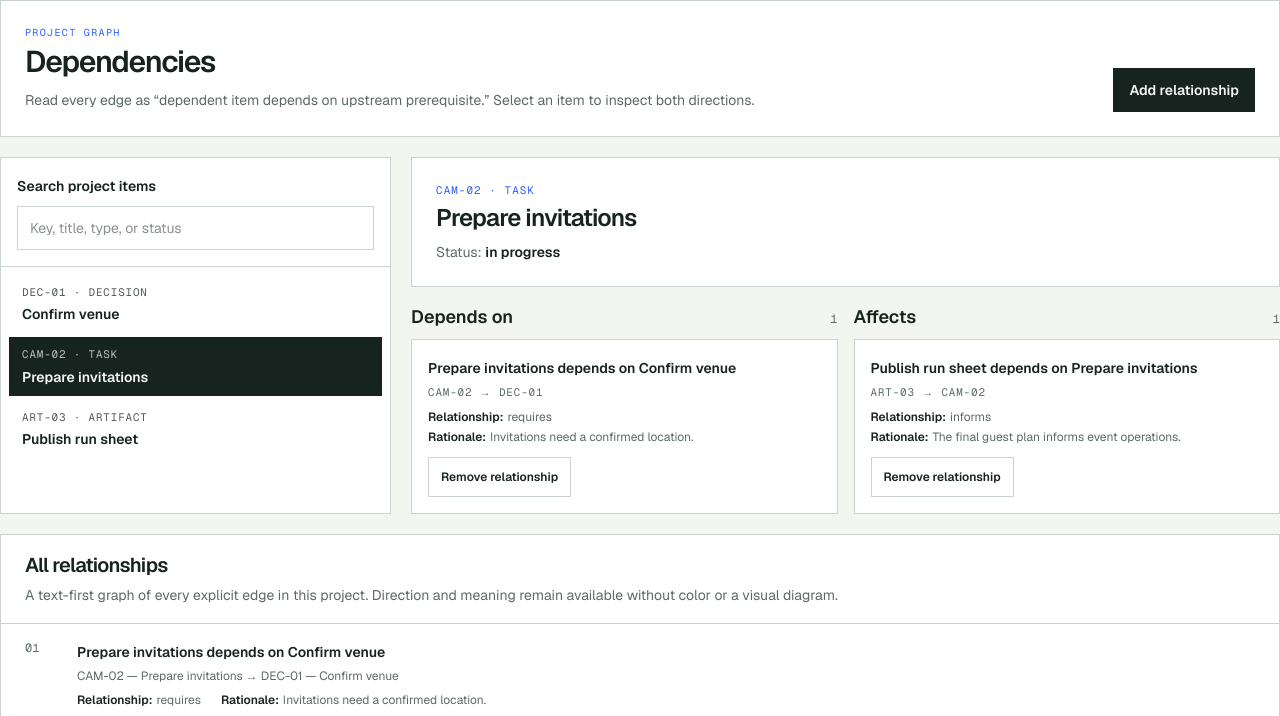
DependencyView › opens labeled add and remove confirmation forms
This screenshot has width=1280, height=716.
Click the button "Add relationship" at point(1184, 90), box [1113,68,1255,112]
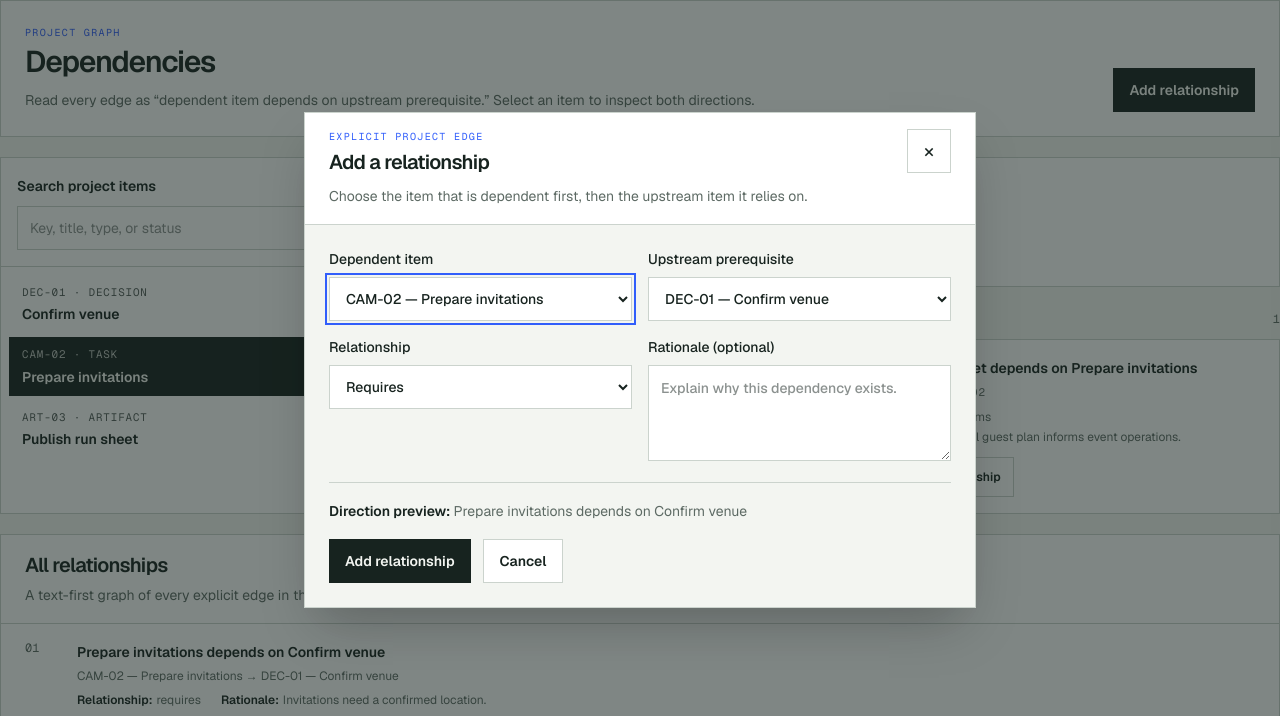
Click the button named "Close add relationship dialog" at point(929, 151), box [907,129,951,173]
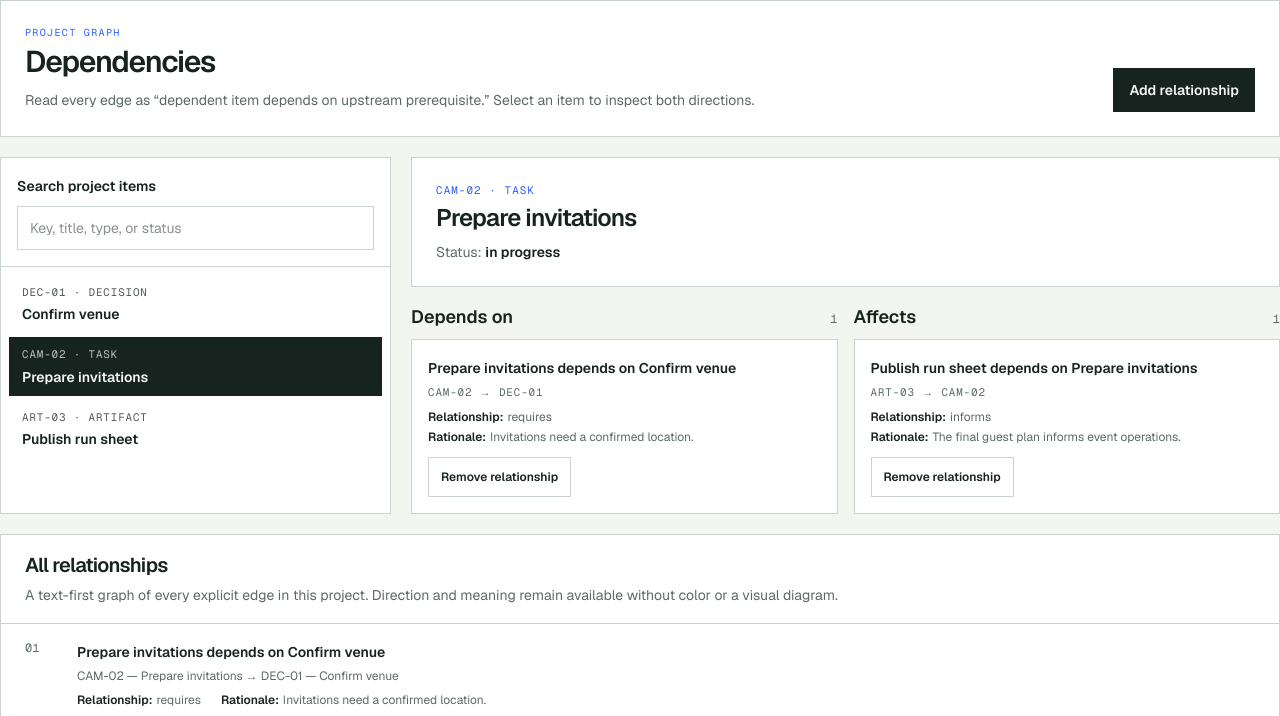
Click the button named "Remove relationship: Prepare invitations depends on Confirm venue" at point(500, 477), box [428,457,571,497]
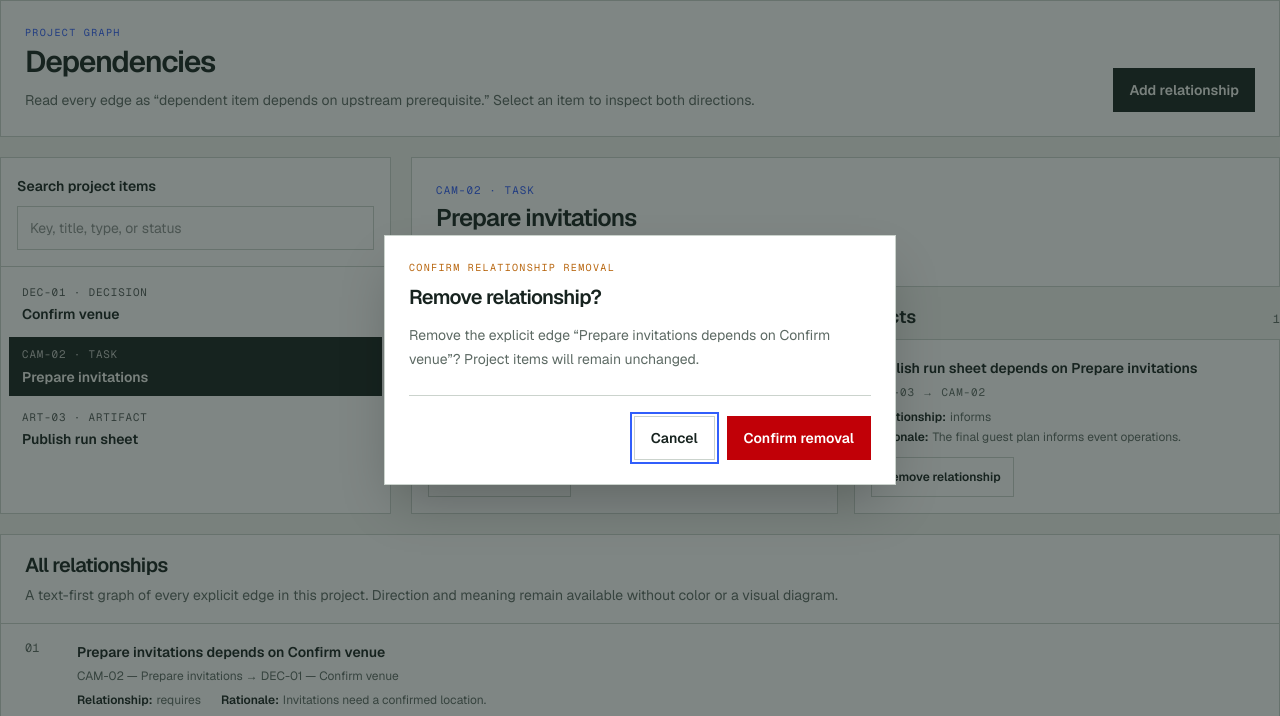
Check: the text "Remove the explicit edge “Prepare invitations depends on Confirm venue”" is shown, box [409,323,871,371]
Check: the button "Confirm removal" is shown
Click the button "Confirm removal" at point(799, 438), box [726,416,871,460]
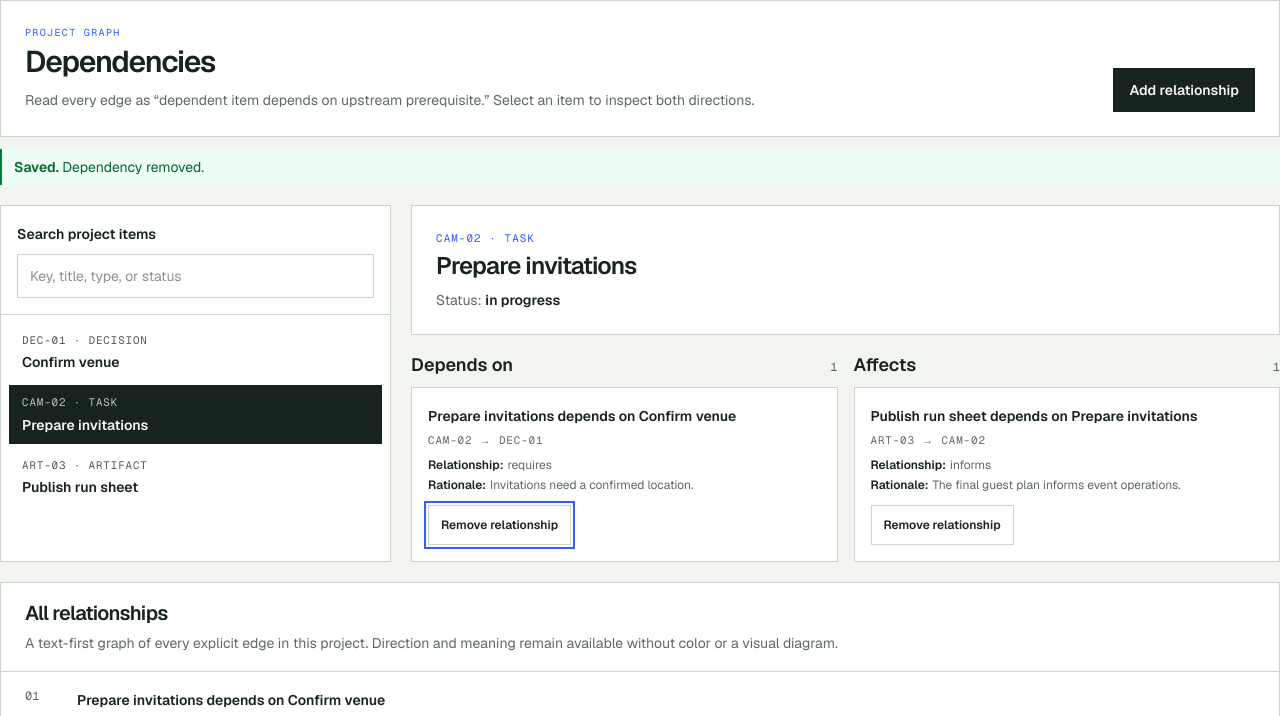
Check: the message shows "Dependency removed.", box [62,158,204,176]
